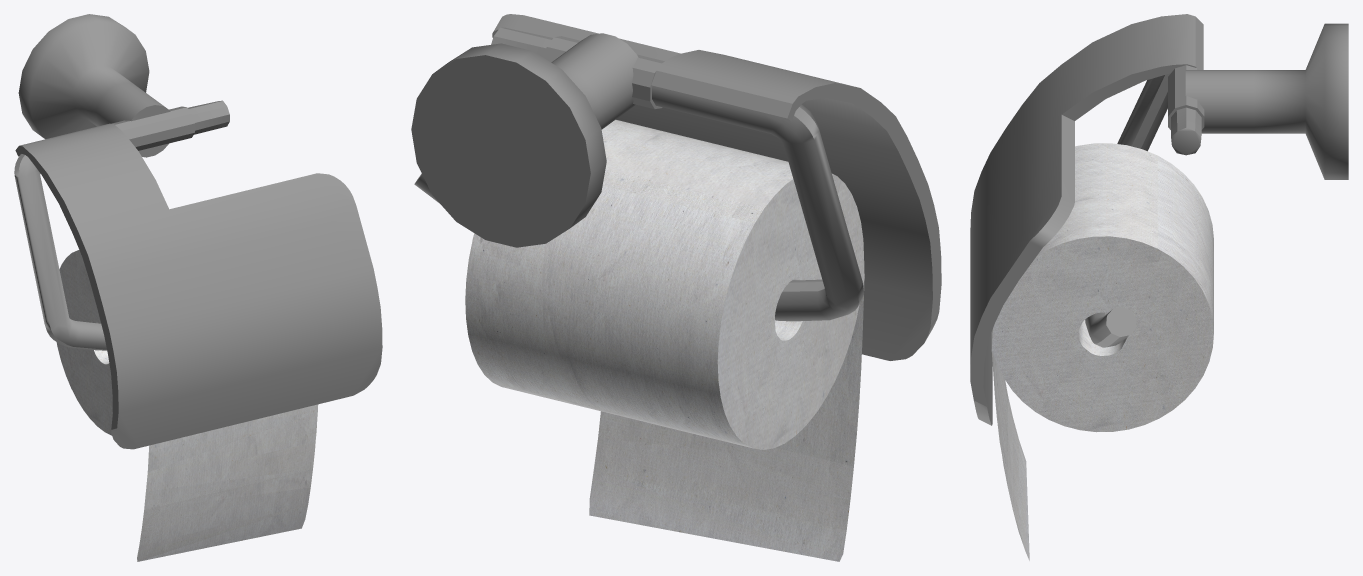
File: Paper holder.FBX
3 renders of one model, left to right at view 1: azimuth 30°, elevation 25°; view 2: azimuth 150°, elevation 25°; view 3: azimuth 270°, elevation 25°, orthographic. The views are drawn at different scales.
Visible parts, largest first — view 1: Paper holder; view 2: Paper holder; view 3: Paper holder.
Boxes of the visible parts, left/top/right/bottom form: Paper holder: left=14, top=14, right=382, bottom=561; Paper holder: left=411, top=14, right=941, bottom=561; Paper holder: left=970, top=14, right=1348, bottom=560.
Size of the model in its own units: 16.29 by 22.71 by 16.07.
2 materials, 1 textured.
